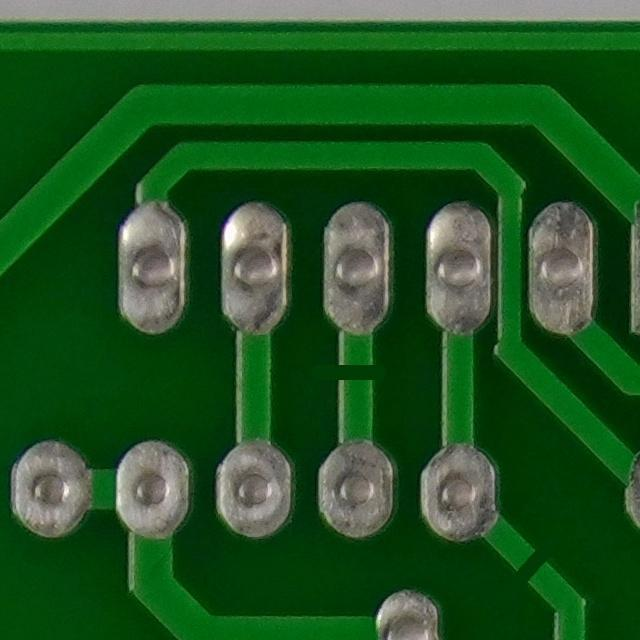open_circuit: (497, 540, 564, 603), (317, 349, 385, 394)
